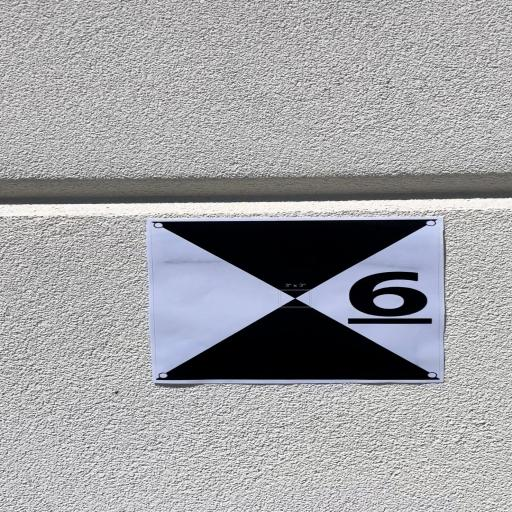target6: (147, 218, 446, 387)
